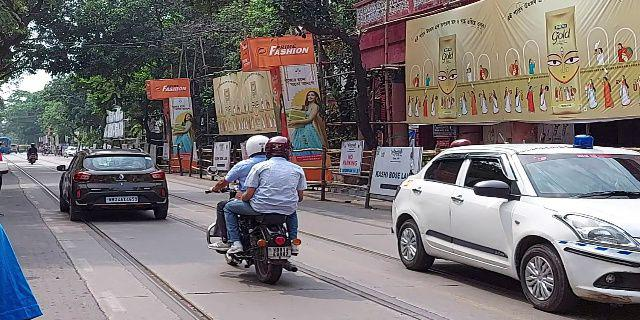Car: (390, 133, 640, 313), (55, 146, 173, 222)
Motorbike: (201, 130, 305, 286)
